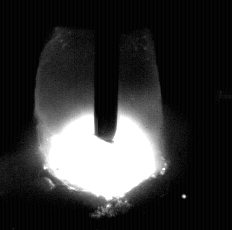arame: (95, 0, 120, 143)
poca: (36, 0, 165, 230)
